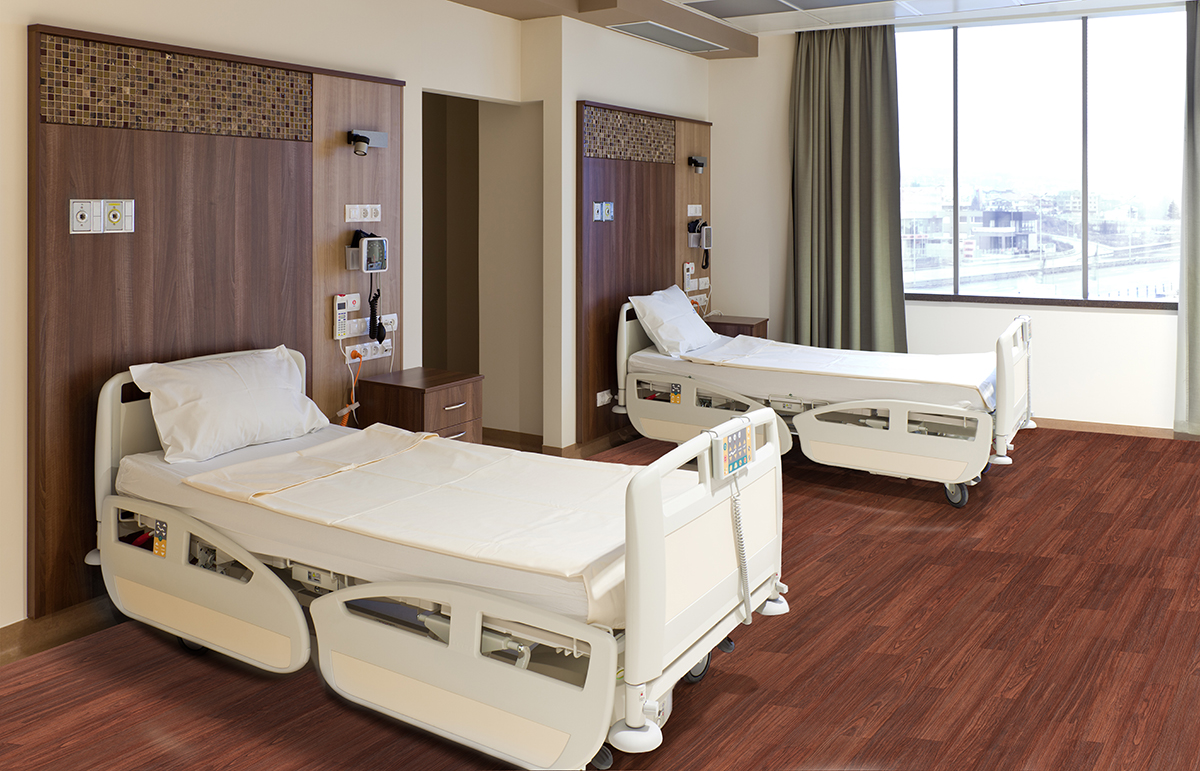hospital bed: (104, 325, 843, 685), (601, 279, 1056, 457)
